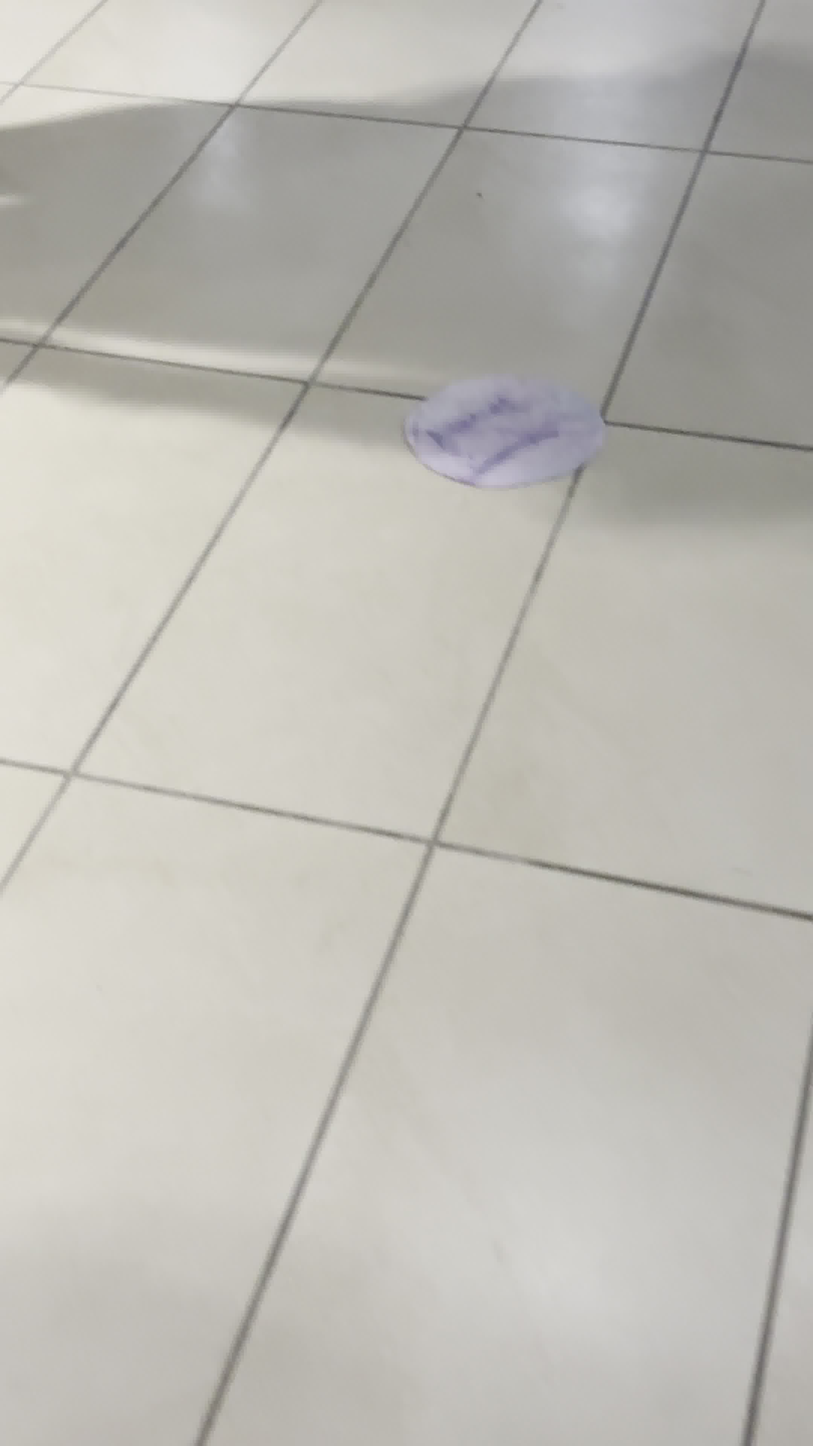Target: (400, 371, 610, 489)
